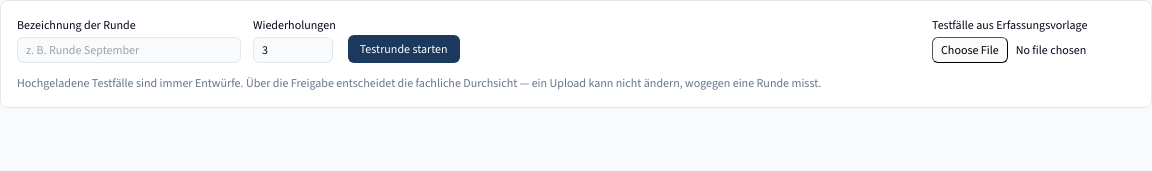
Test case: starting a round › shows the server's reason when it will not start
The width and height of the screenshot is (1152, 171).
Click the button "Testrunde starten" at (404,49), box [348, 35, 460, 63]
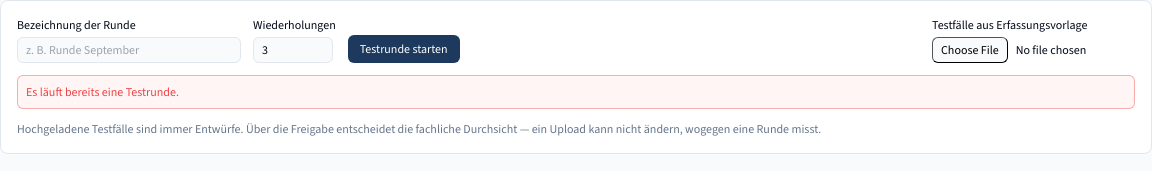
Expected: the text "Es läuft bereits eine Testrunde." is shown, [17, 75, 1135, 109]
